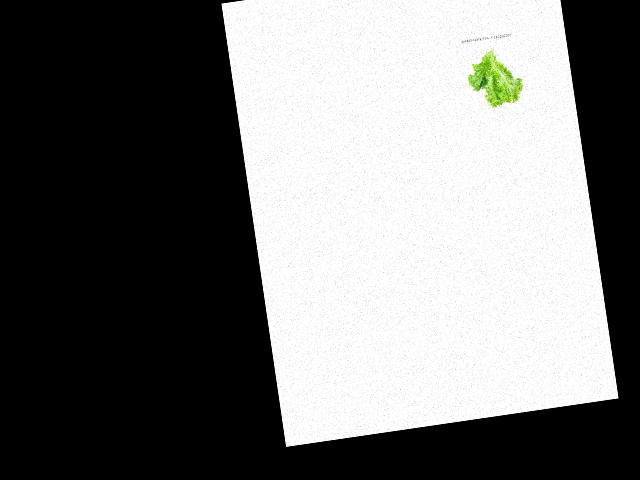lettuce: (461, 40, 525, 112)
